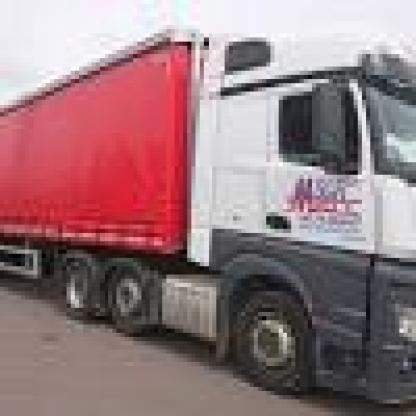dump_truck: (4, 21, 412, 387)
